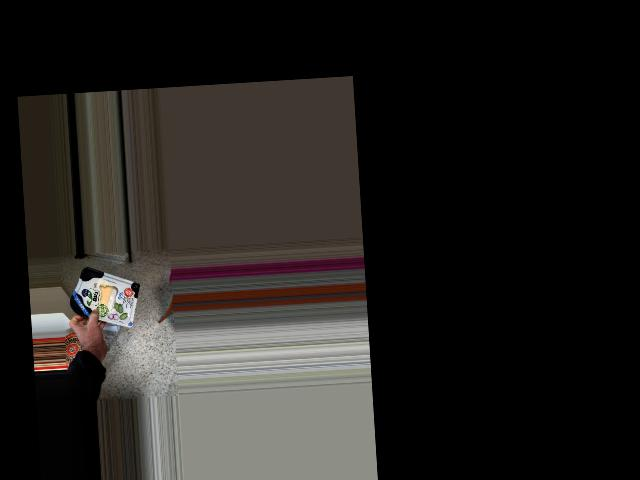cheese: (71, 273, 140, 324)
